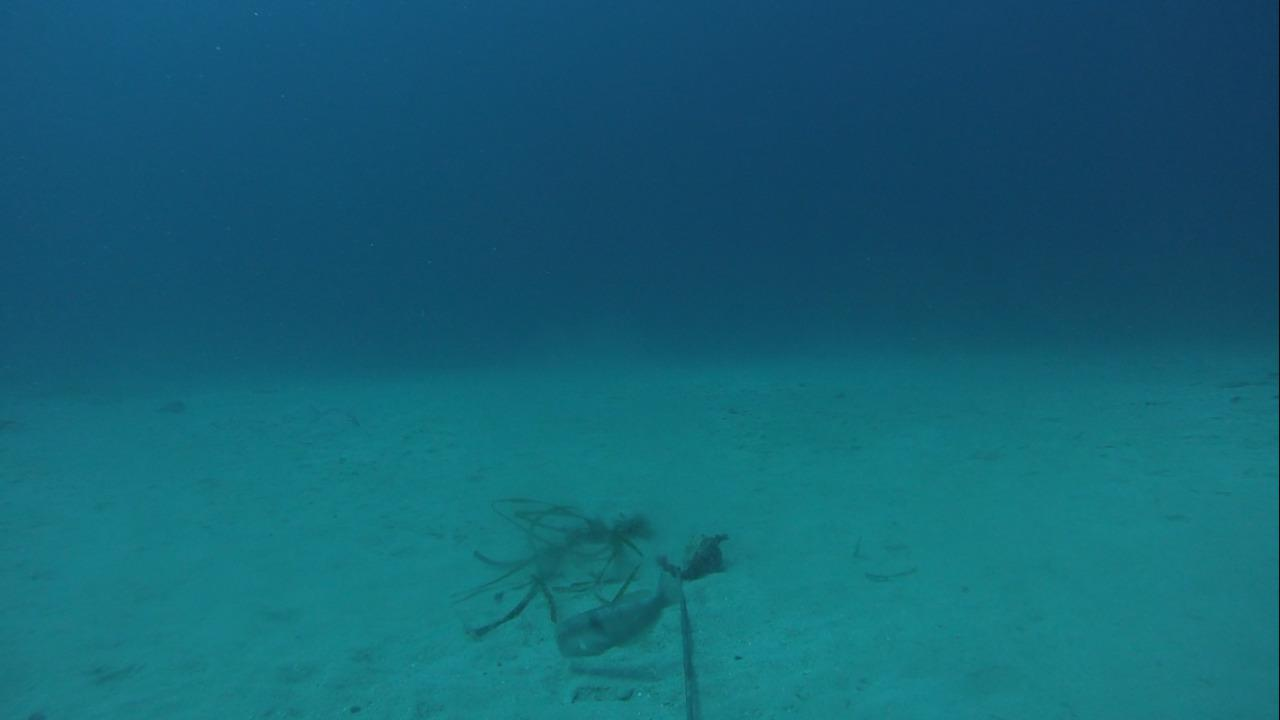raor: (550, 569, 685, 664)
